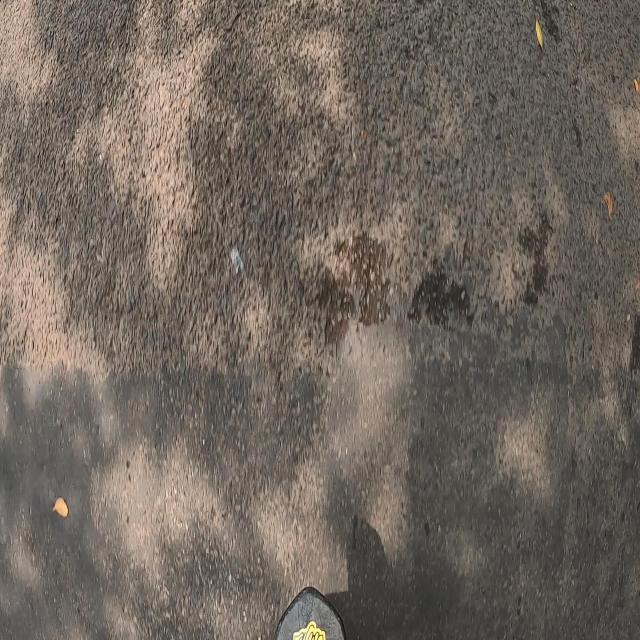Lubang: (319, 233, 390, 343), (409, 260, 472, 326)
